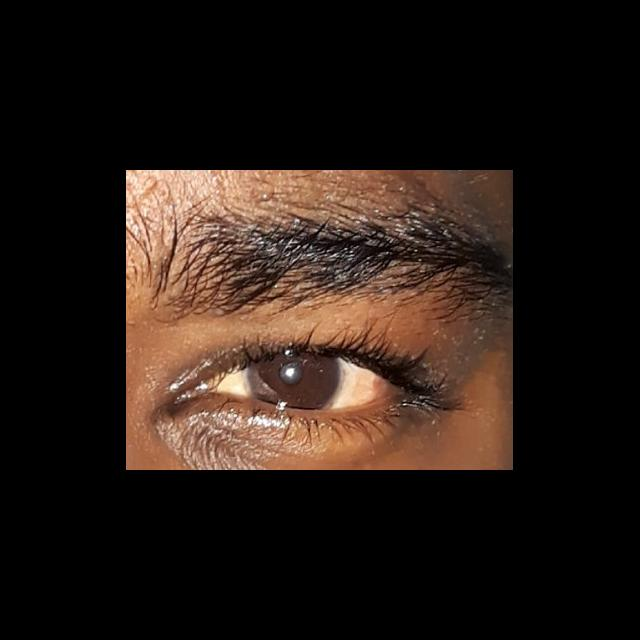eye: (206, 350, 391, 410)
iris: (251, 354, 345, 408)
